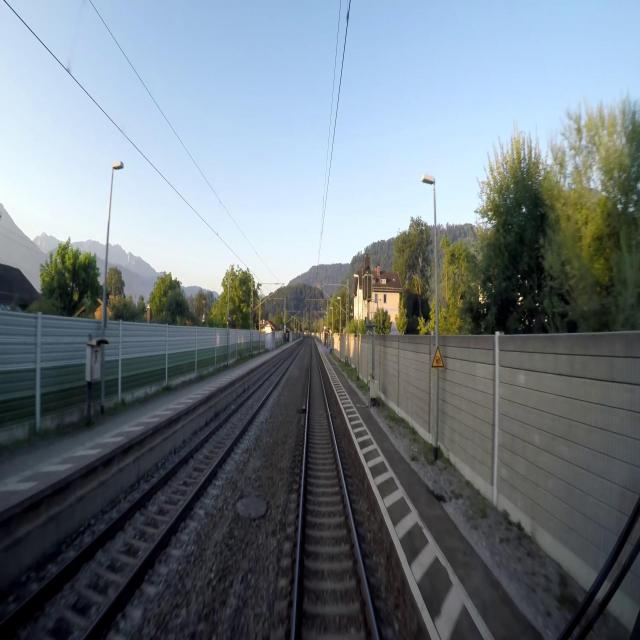rail-track: (0, 354, 293, 639), (296, 345, 375, 639)
